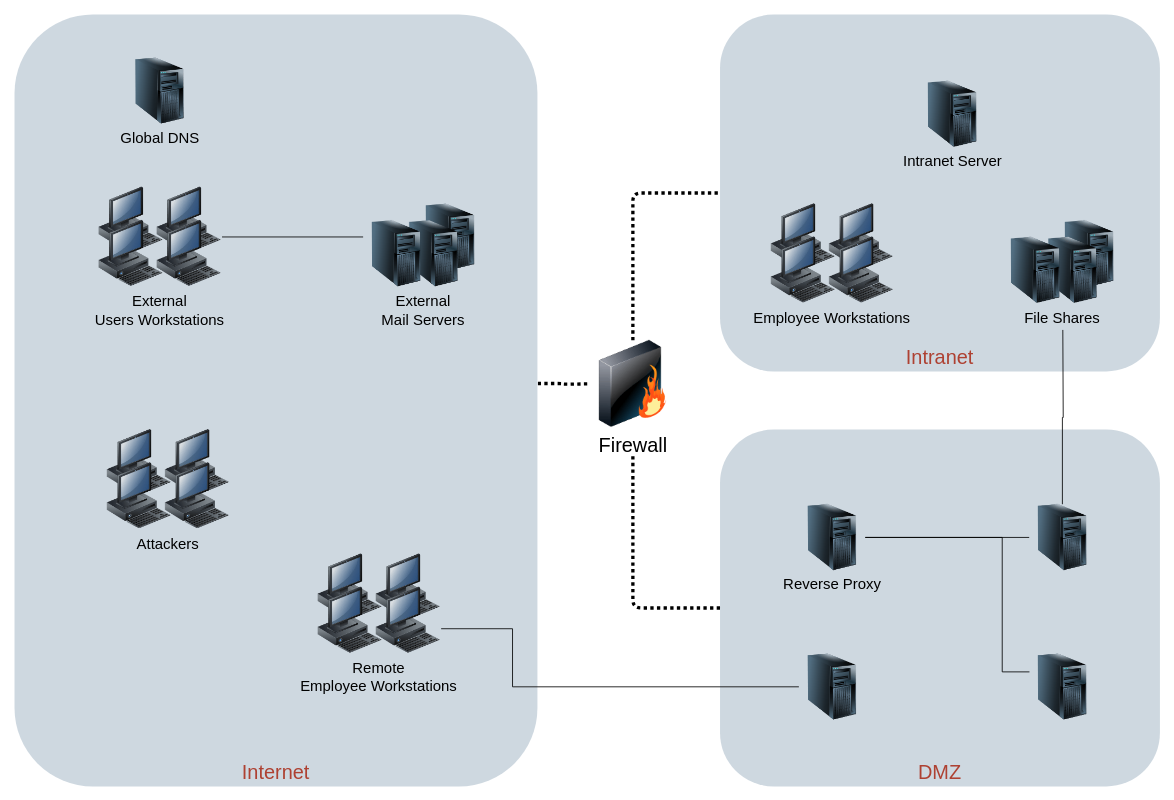
Some shapes in this 1174 by 800 pixel diagram are drawn without their labels. The shapes that lost their labels are listed below. From the top down, each one's centre as x and y in pixels, then its label:
At (x=1062, y=537): "Cloud Share".
At (x=831, y=686): "VPN".
At (x=1062, y=686): "Mail Server".
